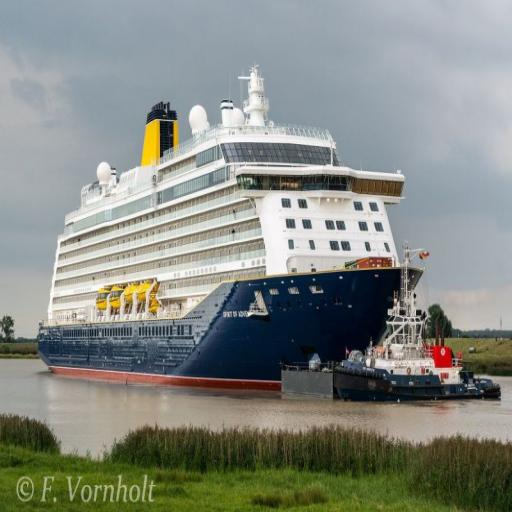cruises: (34, 61, 427, 403)
